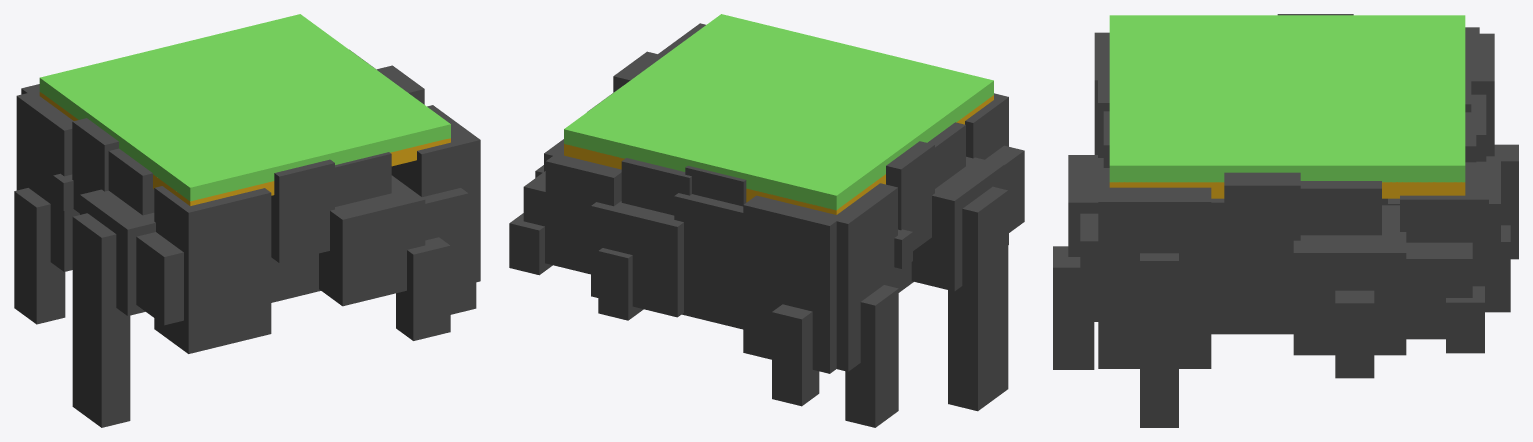
The model's file is floor_rock_01.fbx.
3 views of the same model, side by side, from view 1: azimuth 30°, elevation 25°; view 2: azimuth 150°, elevation 25°; view 3: azimuth 270°, elevation 25° (orthographic). The views are drawn at different scales.
Visible parts, largest first — view 1: grass, Cube.017, Cube.030, Cube.013, Cube.006, Cube.018, Cube.014, Cube.031, Cube.032, Cube.010, Cube.011, Cube.009 (+8 smaller); view 2: grass, Cube.005, Cube.030, Cube.006, Cube.004, Cube.001, Cube.031, Cube.010, Cube, Cube.028, Cube.009, Cube.003 (+10 smaller); view 3: grass, Cube.018, Cube.022, Cube.021, Cube.025, Cube, Cube.023, Cube.019, Cube.020, Cube.032, Cube.026, Cube.013 (+12 smaller).
Part boxes in pixels (box(x1,y1,x2,y2)): grass: box(39, 14, 450, 201); Cube.017: box(154, 186, 271, 353); Cube.030: box(72, 213, 130, 427); Cube.013: box(319, 175, 425, 306); Cube.006: box(16, 90, 79, 271); Cube.018: box(391, 105, 480, 288); Cube.014: box(271, 159, 334, 262); Cube.031: box(14, 188, 65, 324); Cube.032: box(396, 237, 450, 340); Cube.010: box(80, 189, 155, 315); Cube.011: box(136, 232, 183, 325); Cube.009: box(72, 118, 118, 213); grass: box(564, 14, 993, 210); Cube.005: box(743, 195, 864, 373); Cube.030: box(948, 186, 1008, 411); Cube.006: box(787, 183, 897, 371); Cube.004: box(674, 193, 743, 329); Cube.001: box(591, 201, 683, 317); Cube.031: box(845, 285, 898, 427); Cube.010: box(911, 156, 1004, 291); Cube: box(545, 148, 621, 243); Cube.028: box(772, 304, 819, 406); Cube.009: box(886, 141, 934, 250); Cube.003: box(621, 158, 691, 215); grass: box(1109, 15, 1465, 182); Cube.018: box(1098, 168, 1211, 368); Cube.022: box(1293, 205, 1406, 355); Cube.021: box(1224, 172, 1300, 287); Cube.025: box(1140, 253, 1178, 427); Cube: box(1400, 162, 1488, 280); Cube.023: box(1406, 242, 1472, 339); Cube.019: box(1211, 198, 1293, 334); Cube.020: box(1300, 181, 1381, 235); Cube.032: box(1053, 246, 1094, 369); Cube.026: box(1335, 290, 1374, 378); Cube.013: box(1068, 155, 1103, 256).
Size of the model in its own units: 290 by 187 by 262.
